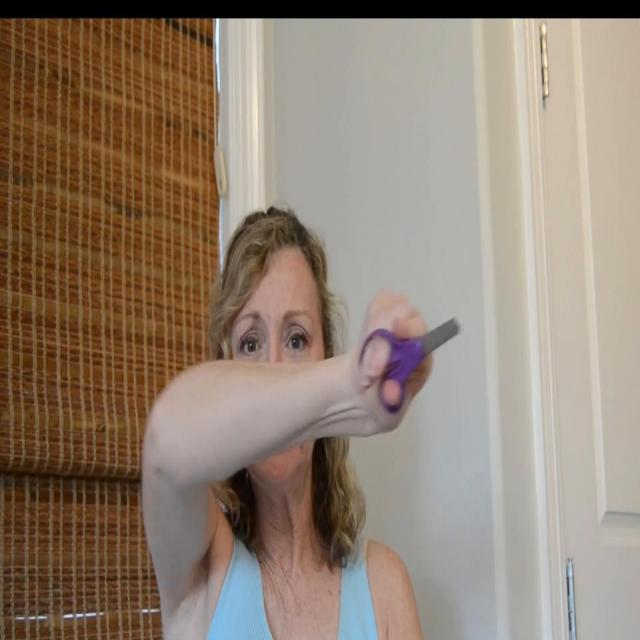scissor: (360, 316, 461, 411)
